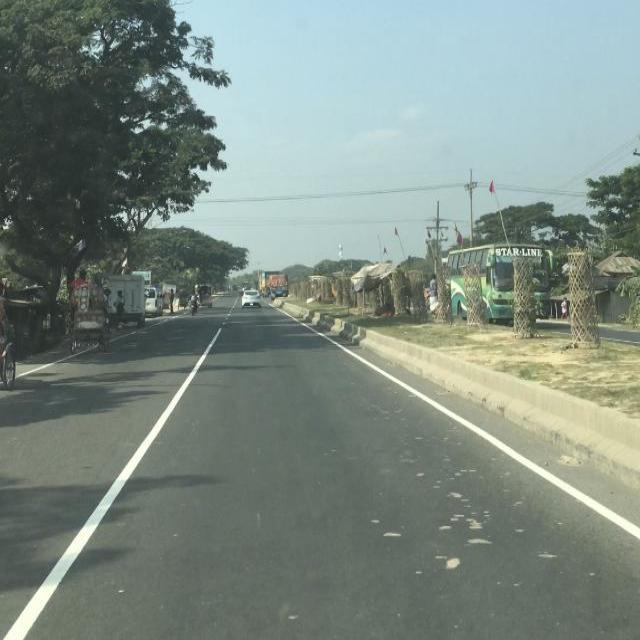bus: (443, 240, 553, 326)
car: (239, 286, 261, 306)
motorbike: (186, 289, 198, 317)
pickup: (109, 272, 147, 328)
rickshaw: (67, 282, 111, 354)
truck: (266, 270, 288, 298)
van: (144, 286, 166, 314)
